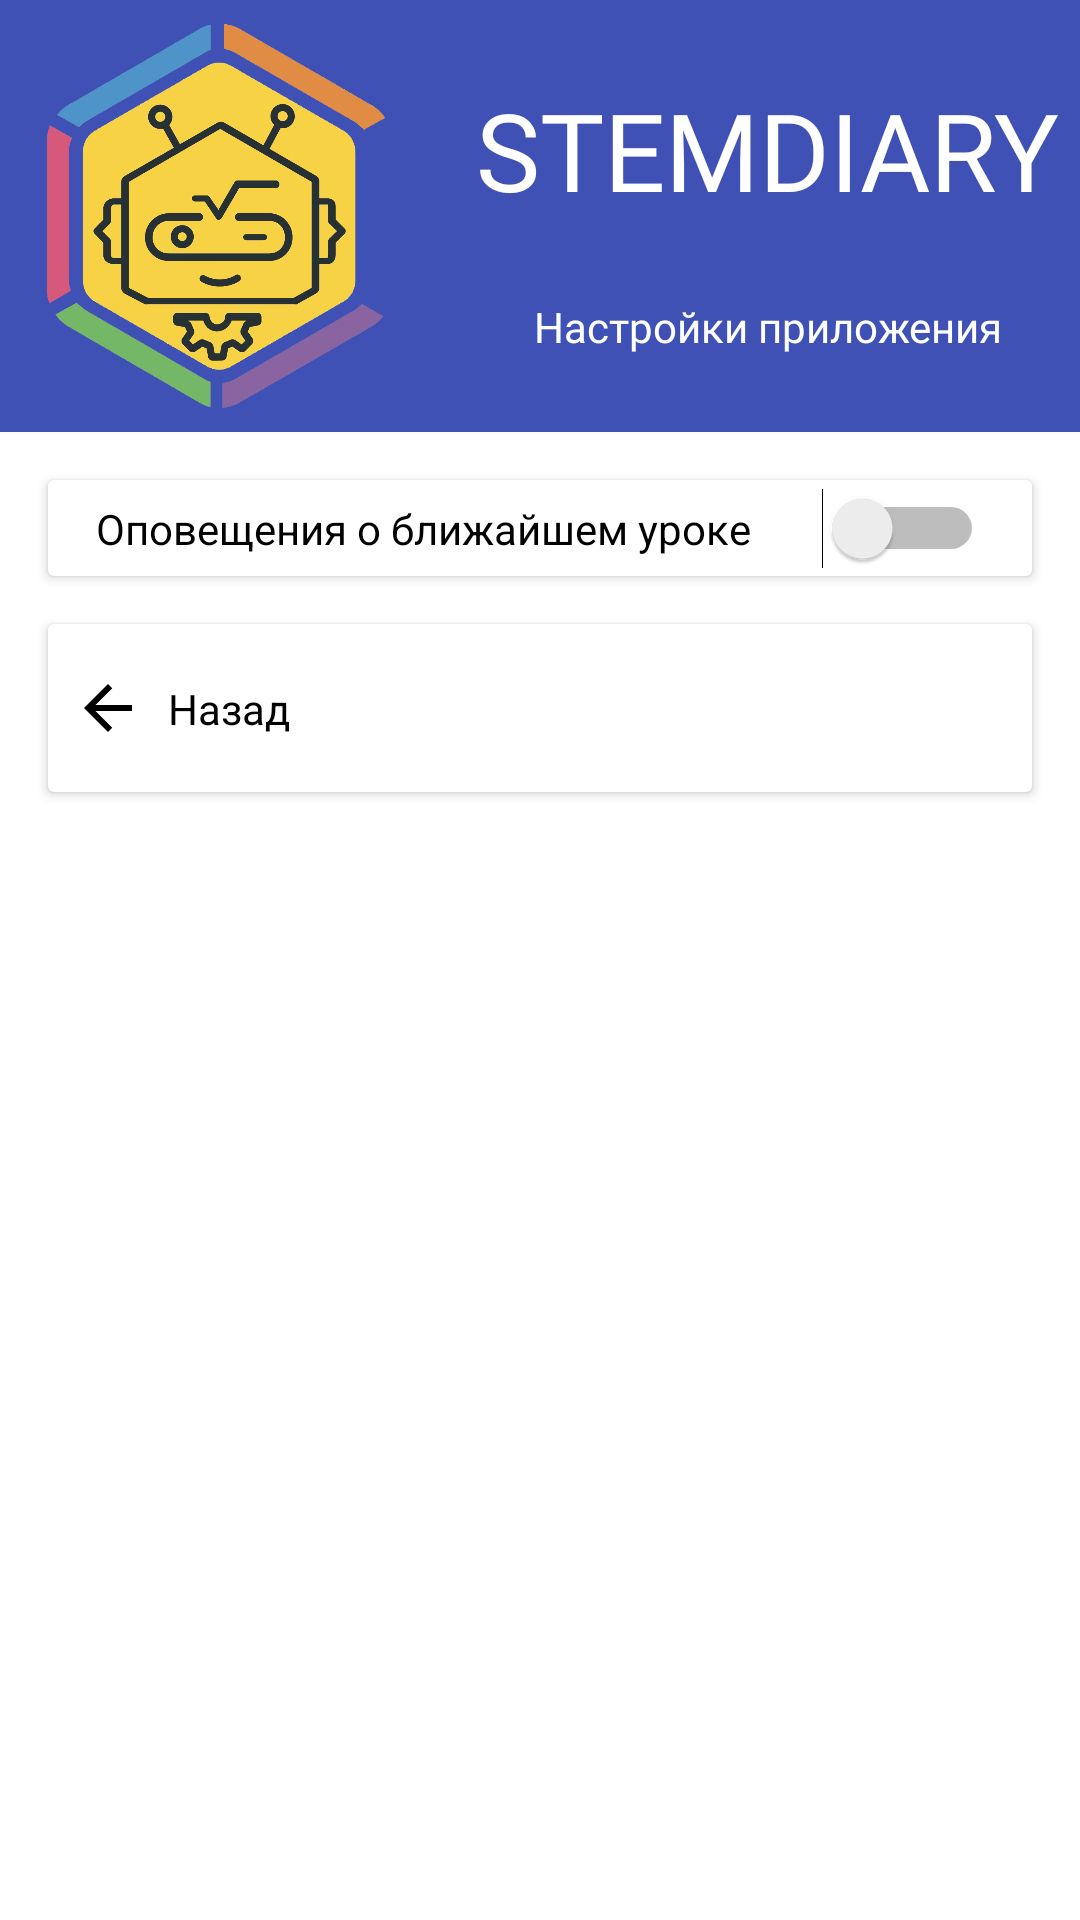

Where to tap for icons on this 1080 x 1920 app screen, as point (x, y):
arrow back: point (108, 708)
